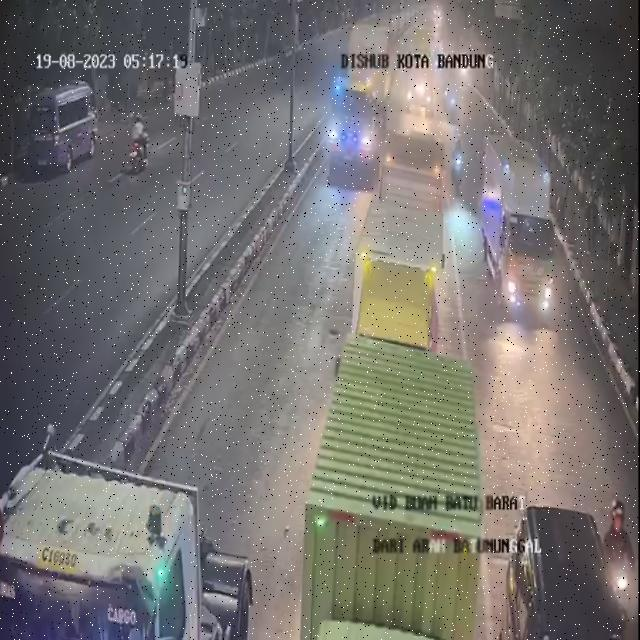cars: (498, 494, 629, 640)
motorcycle: (606, 492, 634, 623), (451, 132, 467, 194), (448, 80, 462, 124)
truck: (312, 317, 493, 636), (0, 436, 253, 639), (482, 147, 562, 331), (350, 187, 440, 347), (329, 15, 400, 168), (385, 128, 450, 212)
